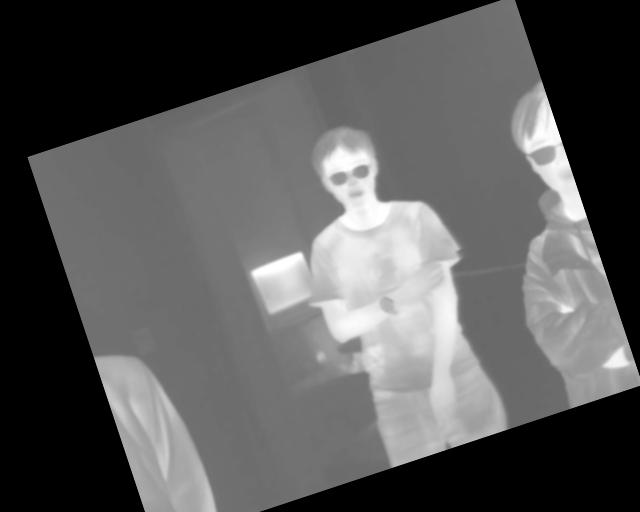face: (303, 116, 392, 217)
